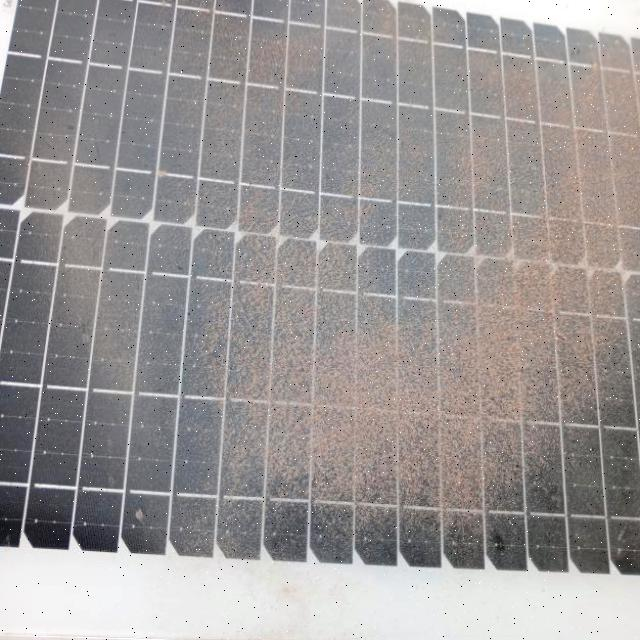Anomaly Solar Panel: (12, 29, 640, 578)
Surface Contaminant: (12, 29, 640, 579)
